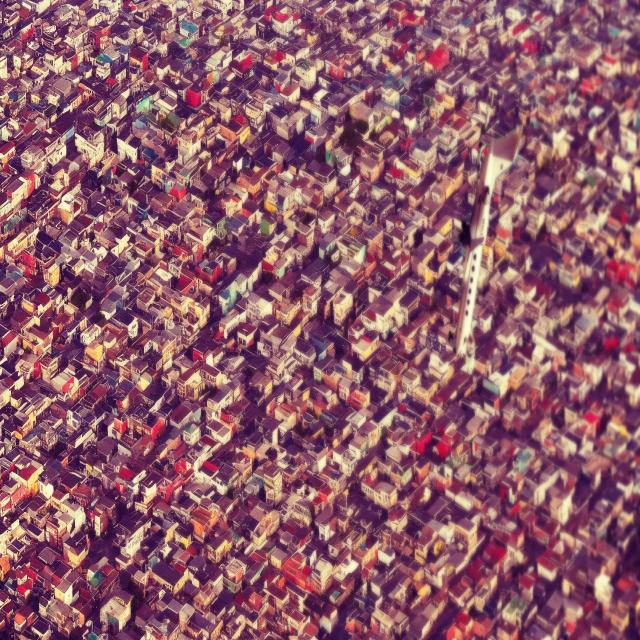airplane: (448, 122, 524, 364)
